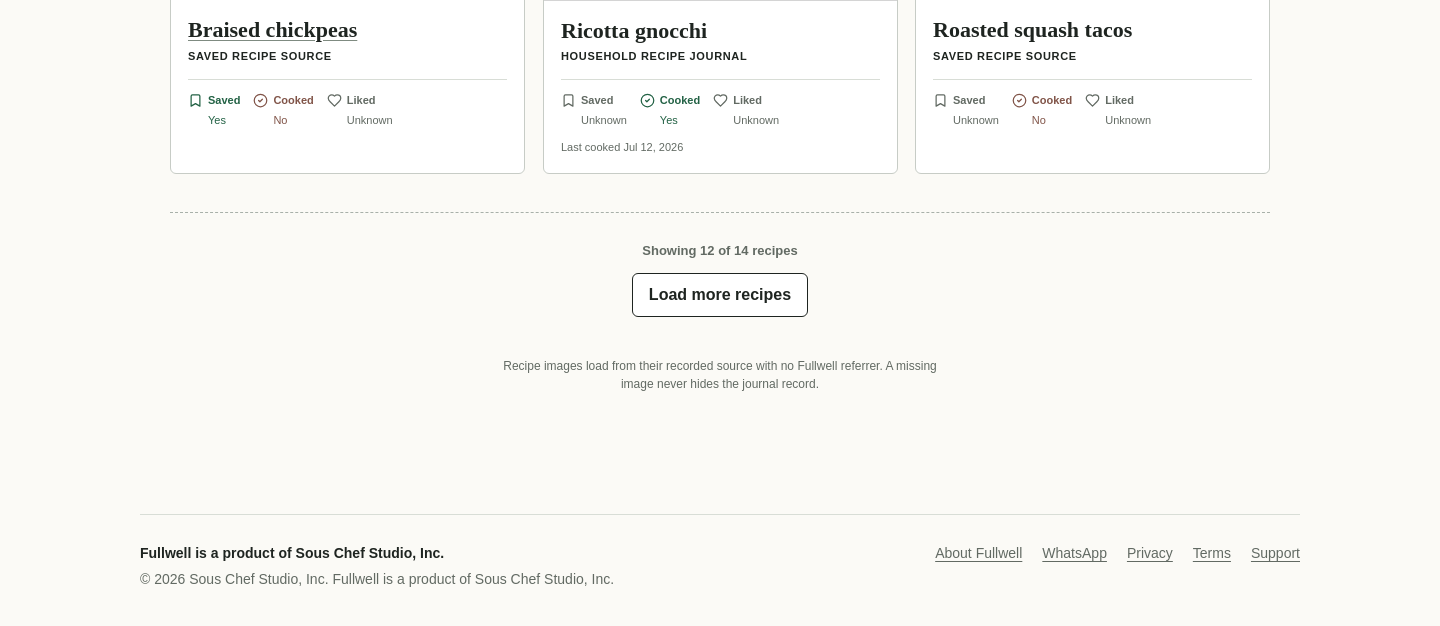
Test case: web experience › keeps an explicit retry when an infinite-scroll batch fails
The image size is (1440, 626).
(page scrolled)
Click the link "Load more recipes".
click(720, 295)  # box [632,273,808,317]
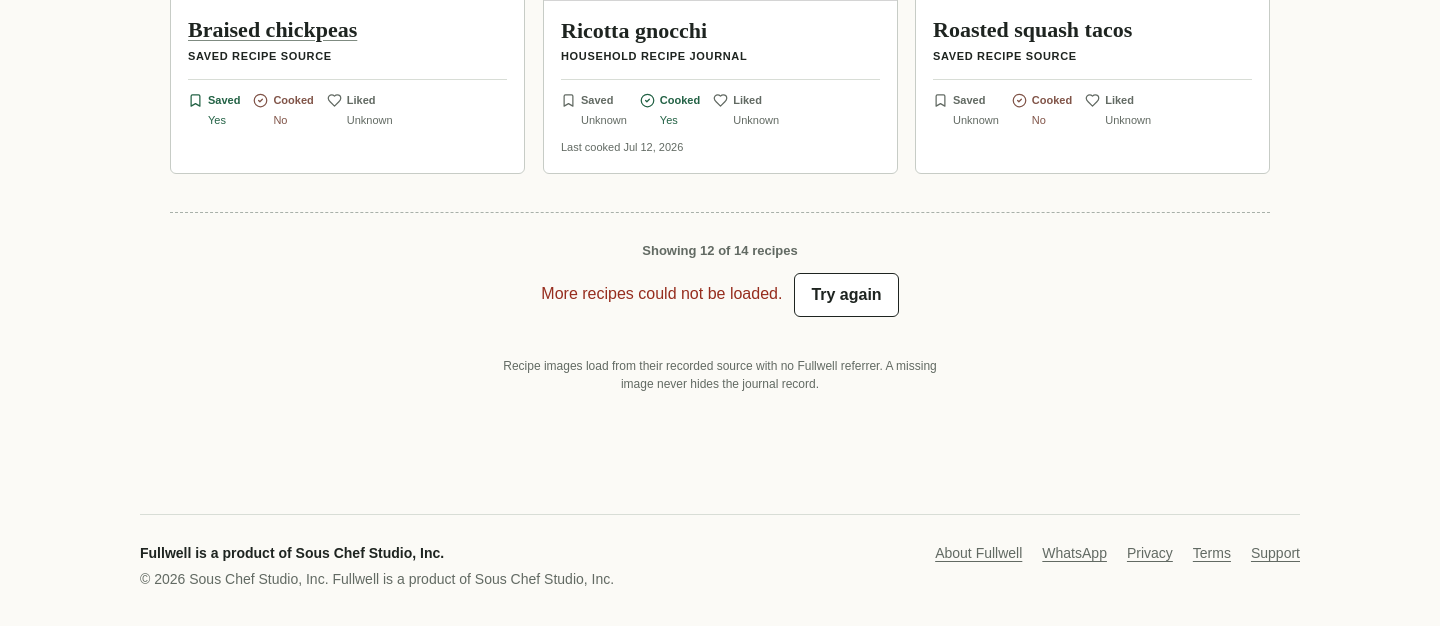
expect the message shows "More recipes could not be loaded": met, box [541,273,899,317]
expect the button "Try again" is shown: met, box [794,273,899,317]
